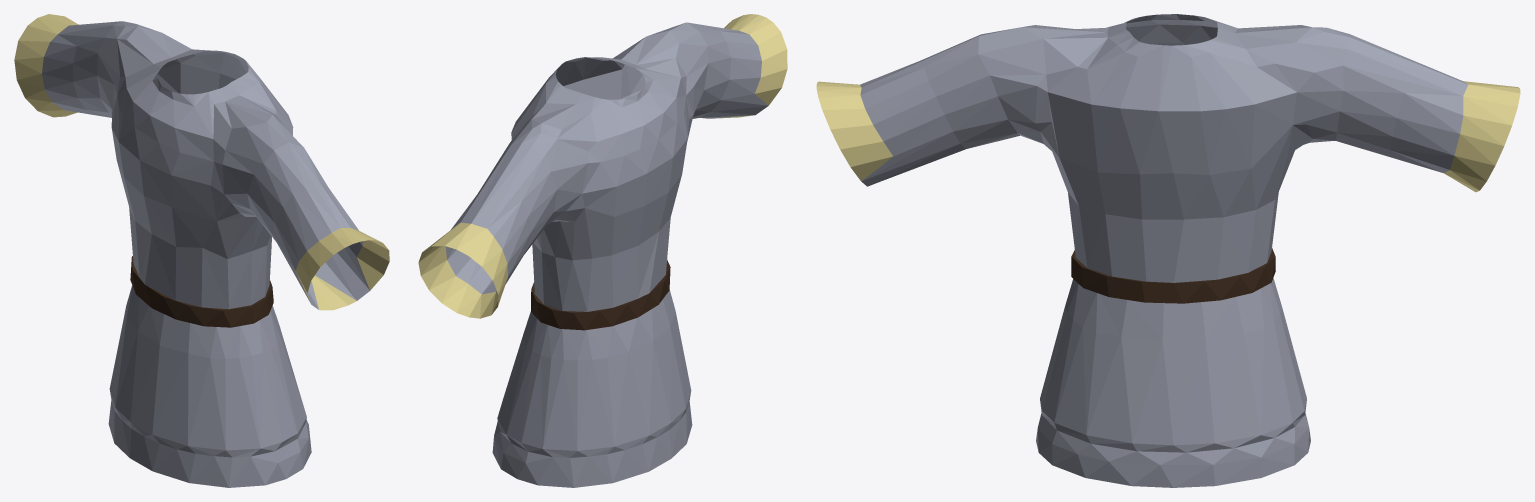
The model's file is Model_KolczugaBonsai.fbx.
3 renders of one model, left to right at view 1: azimuth 30°, elevation 25°; view 2: azimuth 150°, elevation 25°; view 3: azimuth 270°, elevation 25°, orthographic. The views are drawn at different scales.
Visible parts, largest first — view 1: Mesh_KolczugaBonsai; view 2: Mesh_KolczugaBonsai; view 3: Mesh_KolczugaBonsai.
Boxes of the visible parts, box(x1,y1,x2,y2) form: Mesh_KolczugaBonsai: box(14, 14, 389, 487); Mesh_KolczugaBonsai: box(418, 14, 787, 487); Mesh_KolczugaBonsai: box(816, 14, 1520, 487).
Bounding box in the file's own units: 102 × 66.31 × 29.86.
